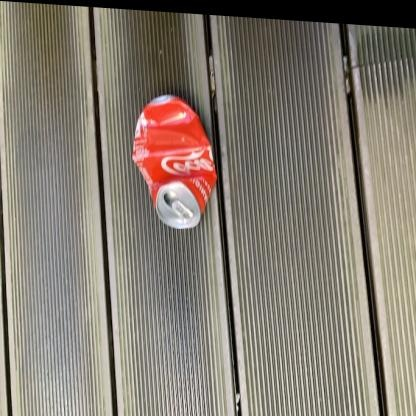trash: (132, 95, 216, 228)
